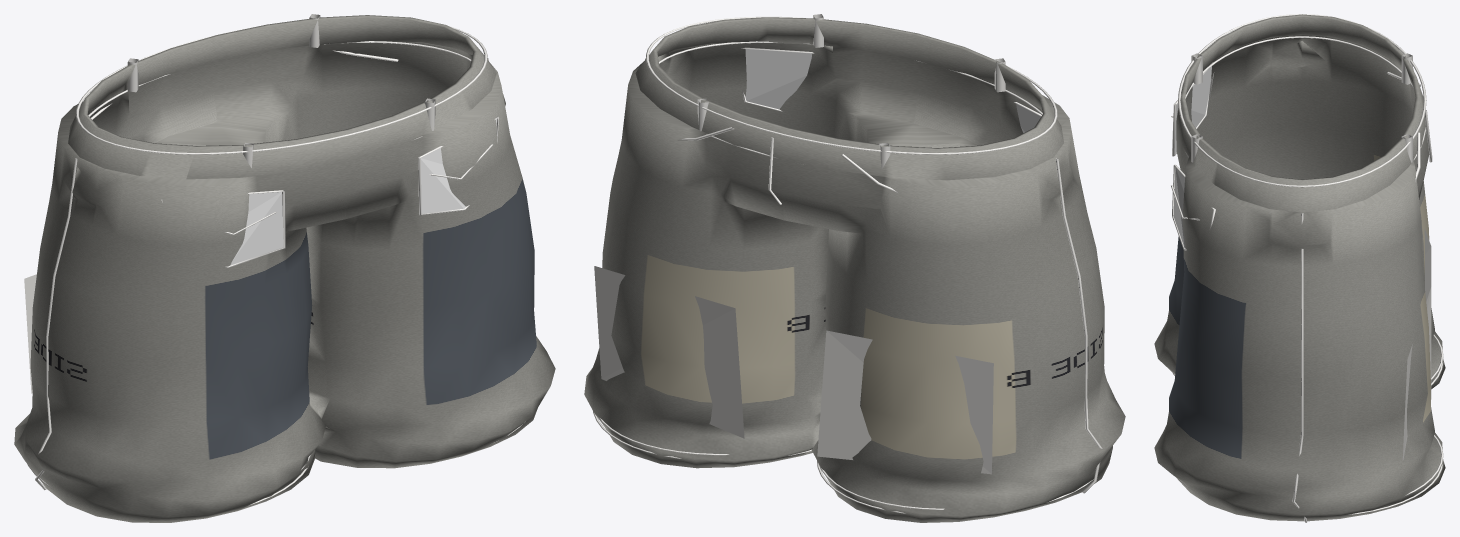
Rendered from SB_BOTTOM_02.fbx.
3 views of the same model, side by side, from view 1: azimuth 30°, elevation 25°; view 2: azimuth 150°, elevation 25°; view 3: azimuth 270°, elevation 25° (orthographic). The views are drawn at different scales.
Visible parts, largest first — view 1: Corpo da jeans.004, Bolso traseiro -1.004, Bolso traseiro 1.004, Pesponto do cós.009, Costura lateral -1.004, Painel_costurado; view 2: Corpo da jeans.004, Painel_costurado, Painel_costurado.001, Bolso traseiro 1.004, Pesponto do cós.009, Costura lateral -1.004; view 3: Corpo da jeans.004, Pesponto do cós.009, Bolso traseiro -1.004, Costura lateral 1.004, Painel_costurado.001, Pesponto do cós.008, Bolso traseiro 1.004, Painel_costurado, Pesponto traseiro -1.004.
Boxes of the visible parts, left/top/right/bottom form: Corpo da jeans.004: left=14, top=15, right=555, bottom=522; Bolso traseiro -1.004: left=230, top=192, right=283, bottom=265; Bolso traseiro 1.004: left=420, top=119, right=496, bottom=213; Pesponto do cós.009: left=76, top=26, right=487, bottom=154; Costura lateral -1.004: left=35, top=158, right=77, bottom=490; Painel_costurado: left=24, top=274, right=36, bottom=393; Corpo da jeans.004: left=584, top=17, right=1125, bottom=522; Painel_costurado: left=817, top=330, right=993, bottom=474; Painel_costurado.001: left=594, top=266, right=744, bottom=438; Bolso traseiro 1.004: left=745, top=49, right=811, bottom=109; Pesponto do cós.009: left=646, top=16, right=1057, bottom=154; Costura lateral -1.004: left=1055, top=158, right=1102, bottom=493; Corpo da jeans.004: left=1154, top=14, right=1445, bottom=521; Pesponto do cós.009: left=1178, top=14, right=1426, bottom=187; Bolso traseiro -1.004: left=1174, top=66, right=1211, bottom=153; Costura lateral 1.004: left=1292, top=213, right=1307, bottom=522; Painel_costurado.001: left=1402, top=287, right=1431, bottom=460; Pesponto do cós.008: left=1185, top=36, right=1425, bottom=160; Bolso traseiro 1.004: left=1173, top=167, right=1185, bottom=248; Painel_costurado: left=1424, top=229, right=1431, bottom=300; Pesponto traseiro -1.004: left=1172, top=62, right=1214, bottom=156.
Size of the model in its own units: 109 by 74.81 by 60.95.
3 materials, 1 textured.
